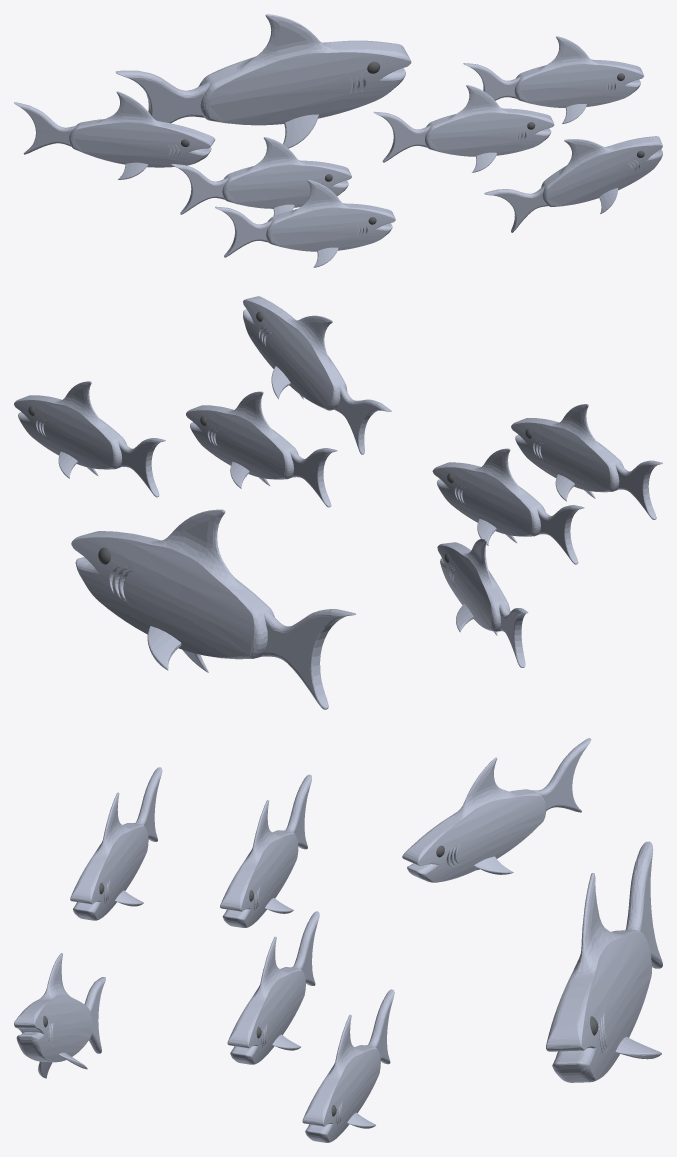
Rendered from fish.glb.
3 renders of one model, top to bottom at view 1: azimuth 30°, elevation 25°; view 2: azimuth 150°, elevation 25°; view 3: azimuth 270°, elevation 25°, orthographic. The views are drawn at different scales.
Visible parts, largest first — view 1: Mesh_Mesh_head_geo.001_lambert2SG.001; view 2: Mesh_Mesh_head_geo.001_lambert2SG.001; view 3: Mesh_Mesh_head_geo.001_lambert2SG.001.
Boxes of the visible parts, bbox=[...] form: Mesh_Mesh_head_geo.001_lambert2SG.001: bbox=[14, 14, 662, 267]; Mesh_Mesh_head_geo.001_lambert2SG.001: bbox=[14, 296, 662, 709]; Mesh_Mesh_head_geo.001_lambert2SG.001: bbox=[14, 738, 662, 1142].
Bounding box in the file's own units: 0.1672 × 0.0422 × 0.1299.
